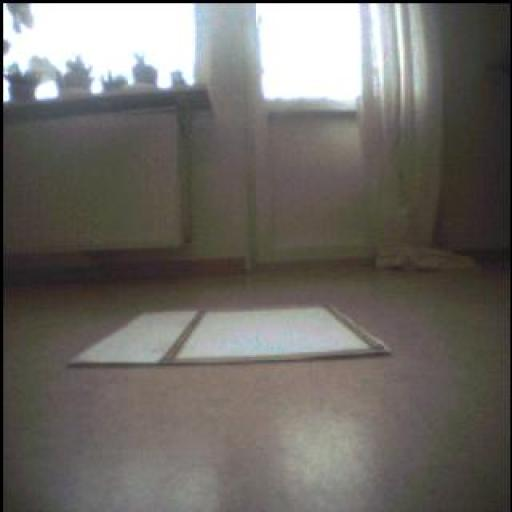Pad: (72, 299, 410, 357)
